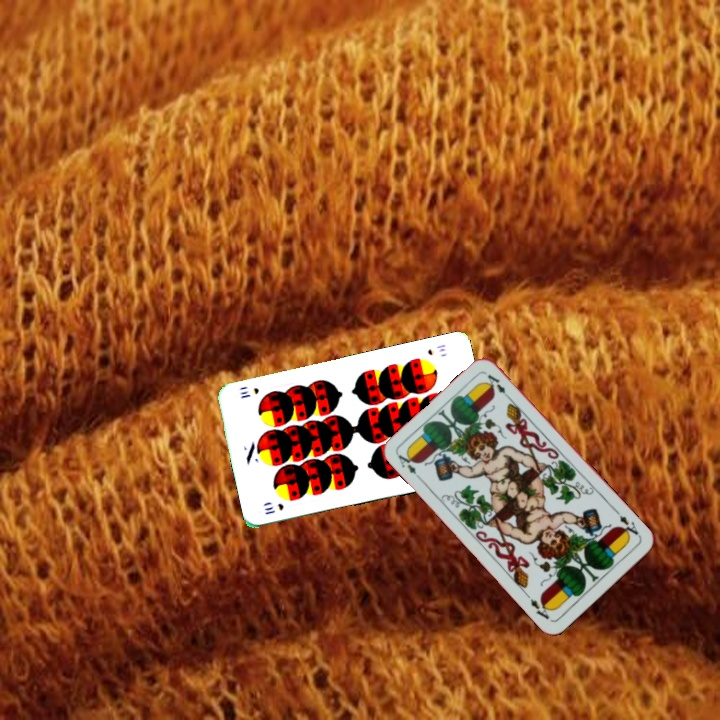EA: (394, 449, 425, 483), (615, 511, 643, 540)
S10: (260, 499, 286, 517), (423, 340, 448, 358)
